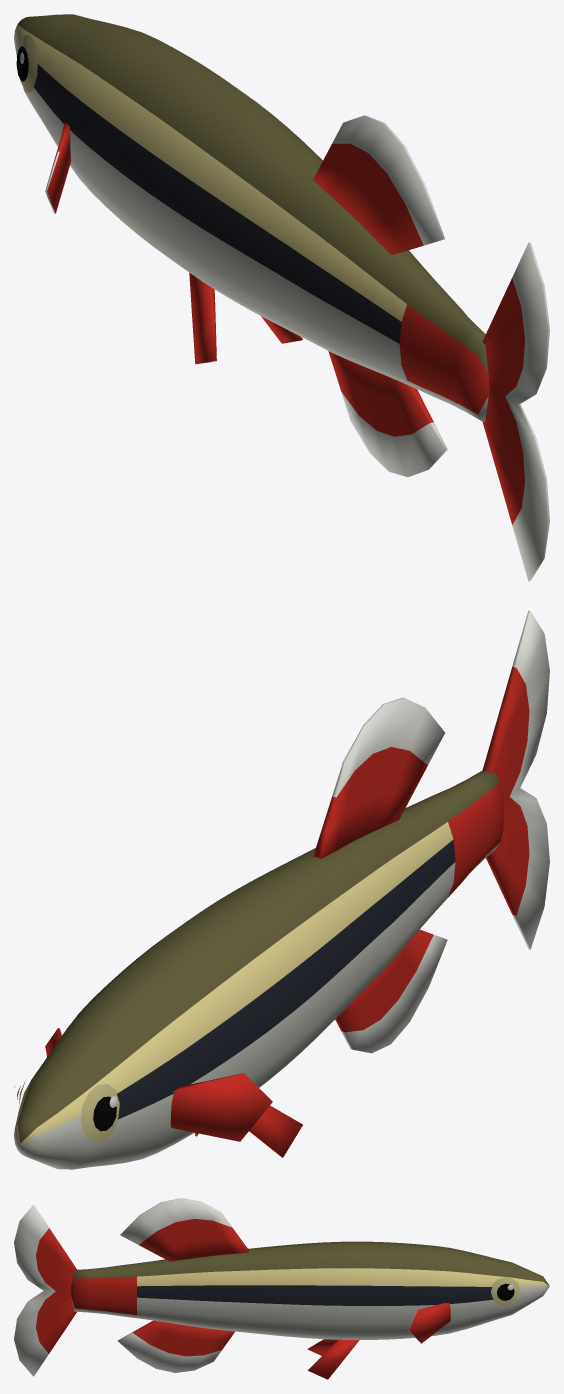
File: white_cloud.glb
3 renders of one model, top to bottom at view 1: azimuth 30°, elevation 25°; view 2: azimuth 150°, elevation 25°; view 3: azimuth 270°, elevation 25°, orthographic. The views are drawn at different scales.
Visible parts, largest first — view 1: white_cloud; view 2: white_cloud; view 3: white_cloud.
Part boxes in pixels (x1,y1,x2,y2): white_cloud: [14, 14, 549, 581]; white_cloud: [14, 610, 549, 1169]; white_cloud: [14, 1198, 549, 1379].
Size of the model in its own units: 0.5263 by 0.7767 by 2.12.
